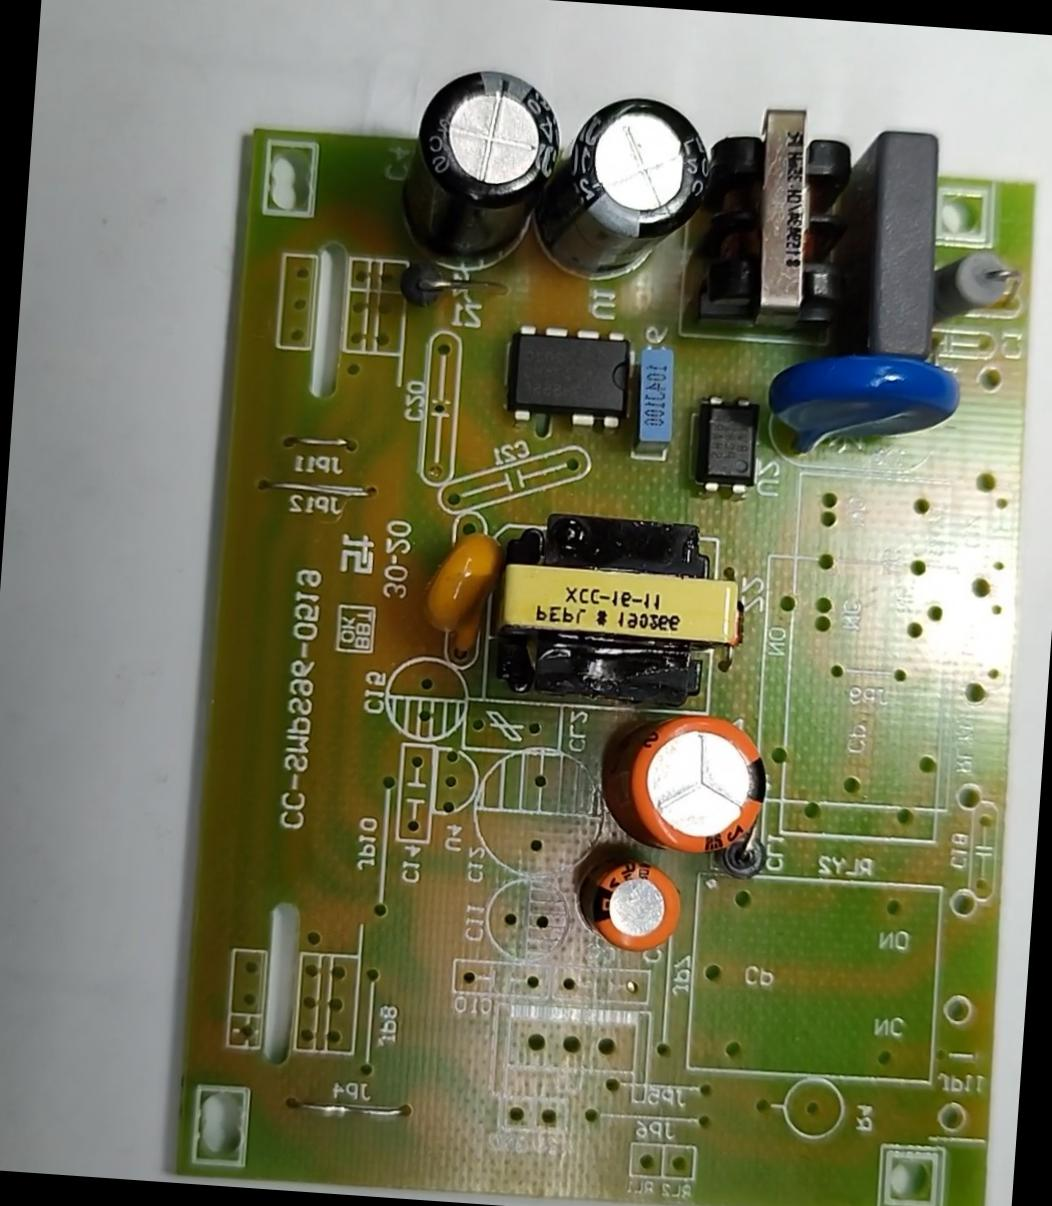Cap1: (620, 712, 775, 862)
Cap2: (578, 855, 689, 957)
Cap3: (534, 97, 716, 293)
Cap4: (393, 56, 566, 281)
MOSFET: (499, 319, 642, 435)
Mov: (761, 344, 965, 472)
Resistor: (932, 244, 1023, 335)
Transformer: (491, 501, 745, 702), (702, 108, 873, 337)
